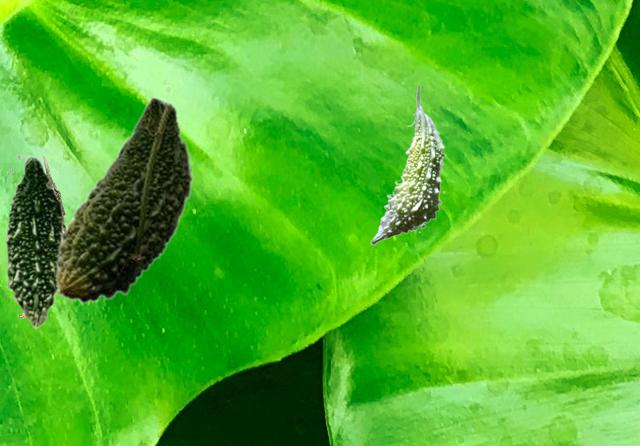ampalaya: (54, 96, 193, 303), (370, 86, 445, 244), (5, 153, 67, 329), (17, 154, 66, 317)
